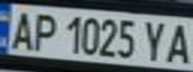0: (78, 14, 100, 56)
1: (60, 12, 84, 54)
2: (96, 15, 121, 58)
5: (115, 16, 142, 61)
A: (3, 7, 39, 51), (163, 20, 193, 65)
P: (27, 10, 60, 52)
Y: (139, 18, 172, 62)
